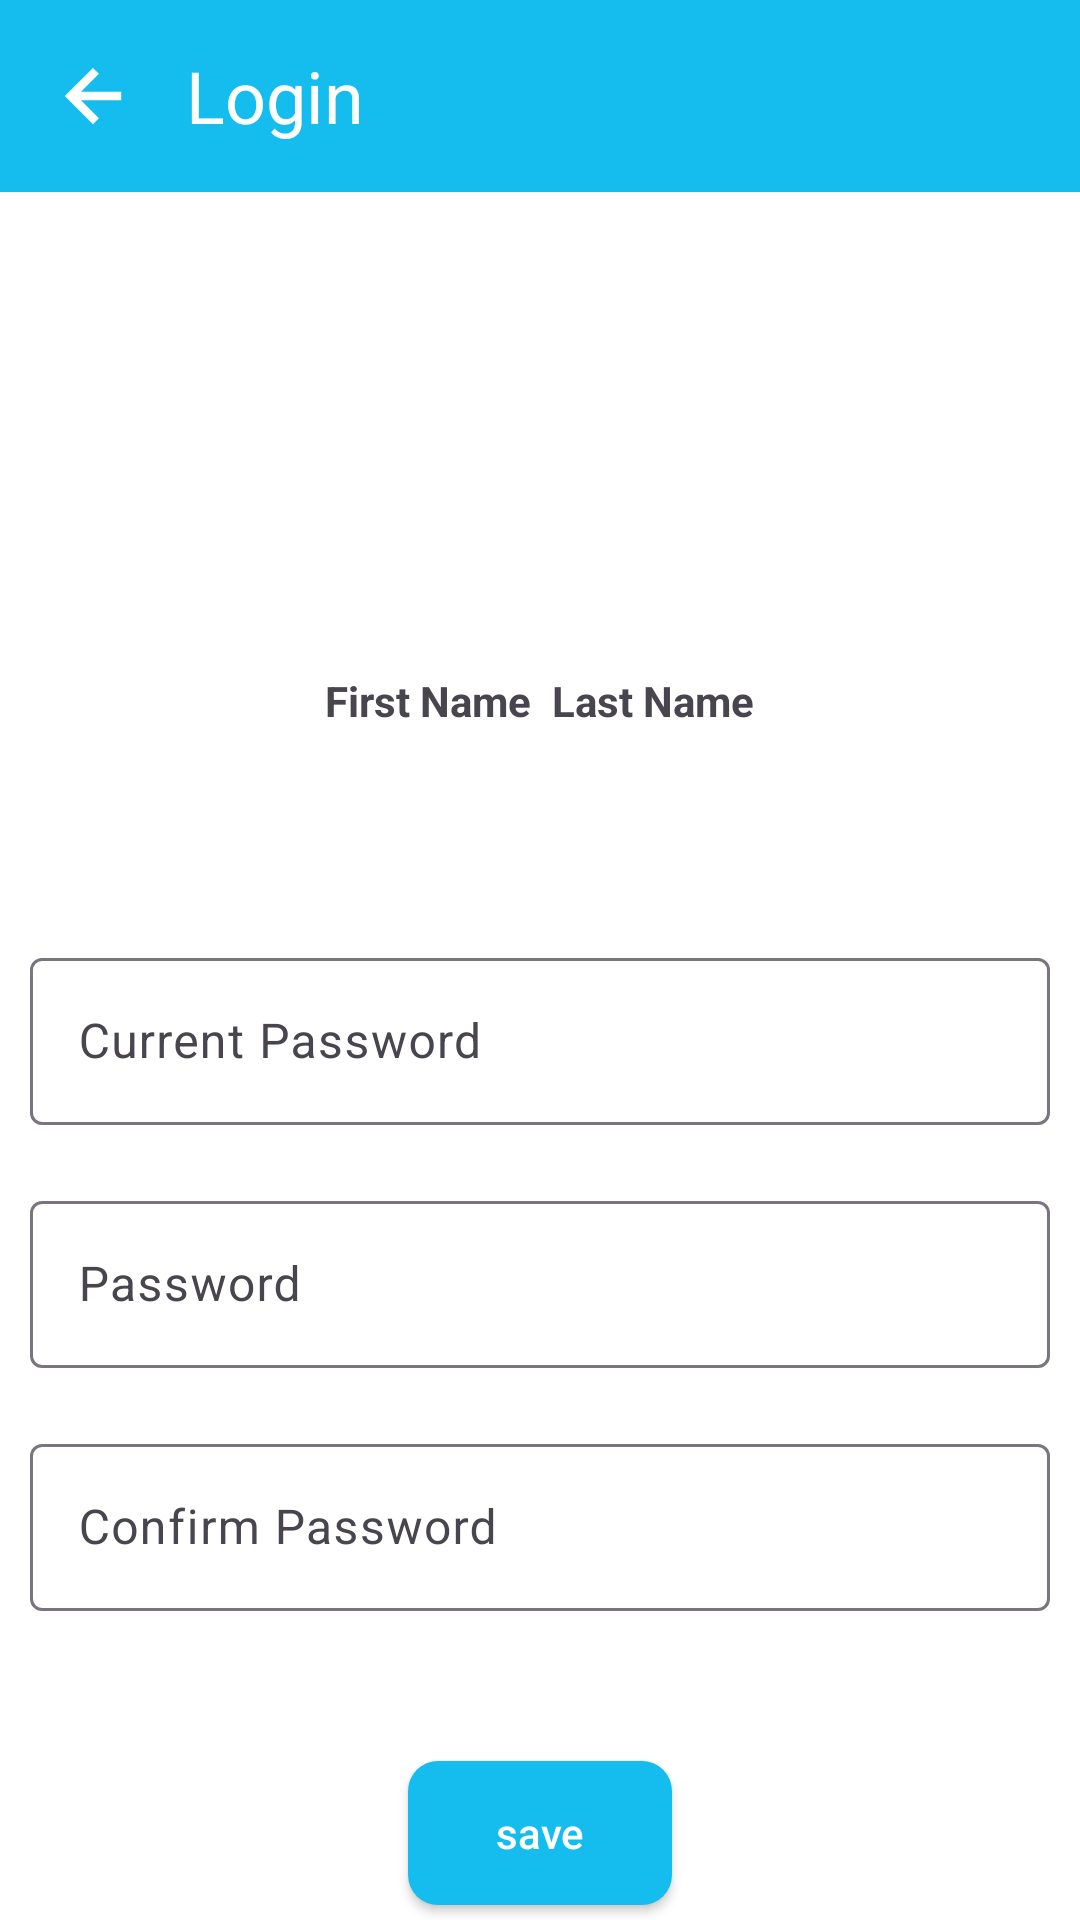

Locate icon controls on the screen. Image size 1080w x 1920h, boxes as {"left": x1, "top": y1, "right": x2, "bottom": y2}.
back: {"left": 65, "top": 68, "right": 122, "bottom": 124}
